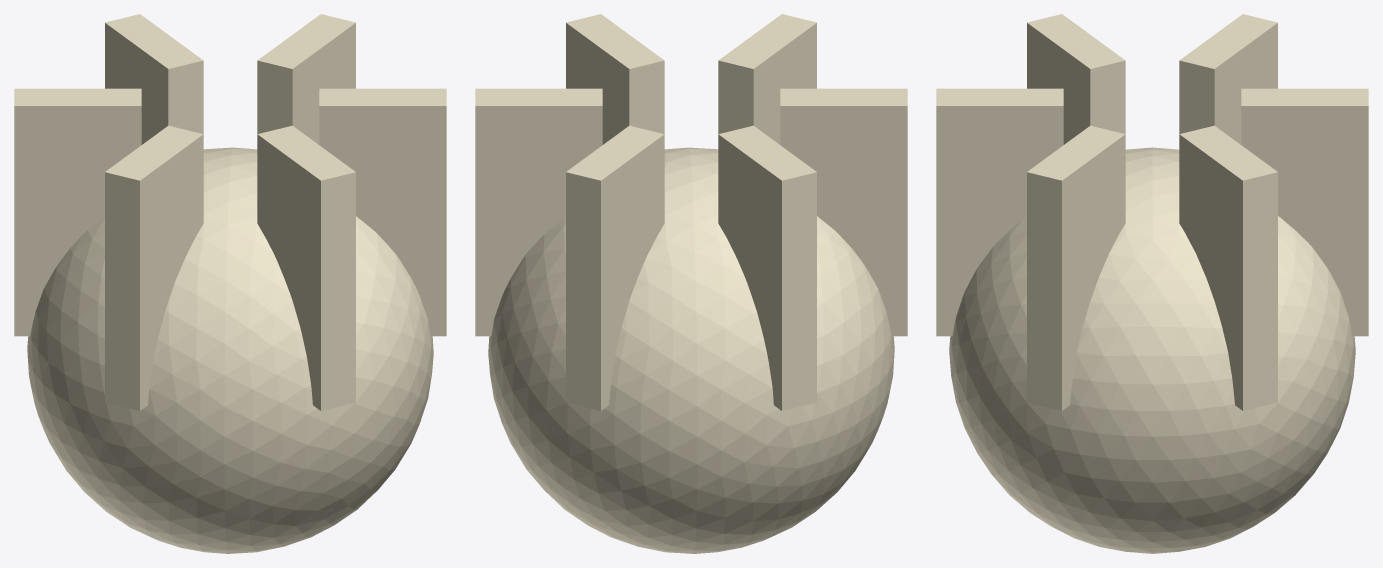
Rendered from lumen-one.glb.
3 renders of one model, left to right at view 1: azimuth 30°, elevation 25°; view 2: azimuth 150°, elevation 25°; view 3: azimuth 270°, elevation 25°, orthographic.
Visible parts, largest first — view 1: world; view 2: world; view 3: world.
Boxes of the visible parts, <box> form: world: <box>14,14,446,553</box>; world: <box>475,14,907,553</box>; world: <box>936,14,1368,553</box>.
Bounding box in the file's own units: 1.68 × 2 × 1.79.
1 material, 1 textured.
